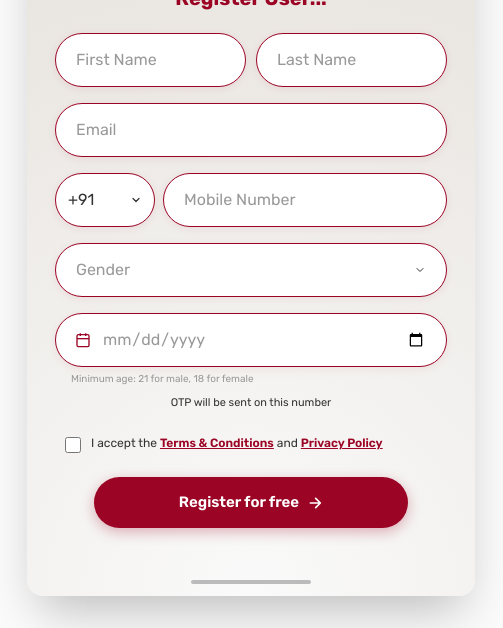
it: RegisterUser – Step 1 form › shows mobile validation error for fewer than 10 digits
(page scrolled)
Type "Rahul" into the field with placeholder "First Name" at (150,60), box [55,33,246,87]
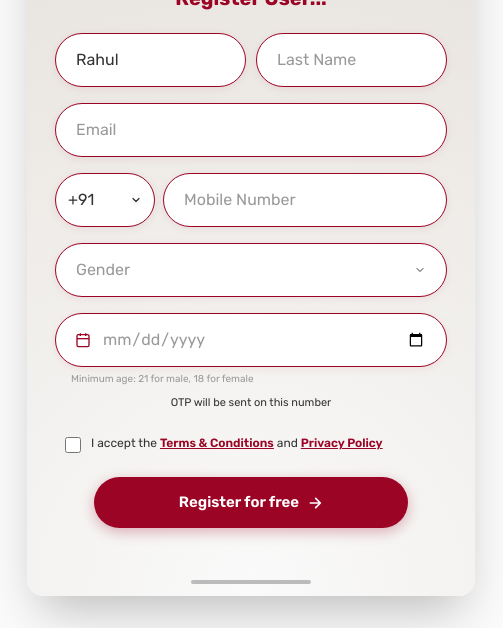
Type "Sharma" into the field with placeholder "Last Name" at (352,60), box [256,33,447,87]
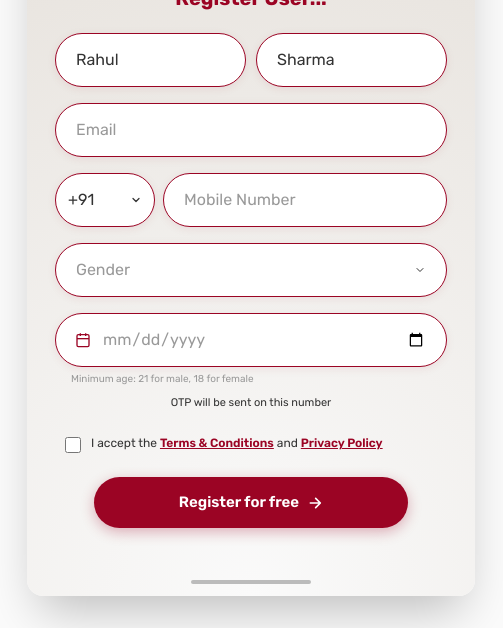
Type "12345" into the field with placeholder "Mobile Number" at (305,200), box [163,173,447,227]
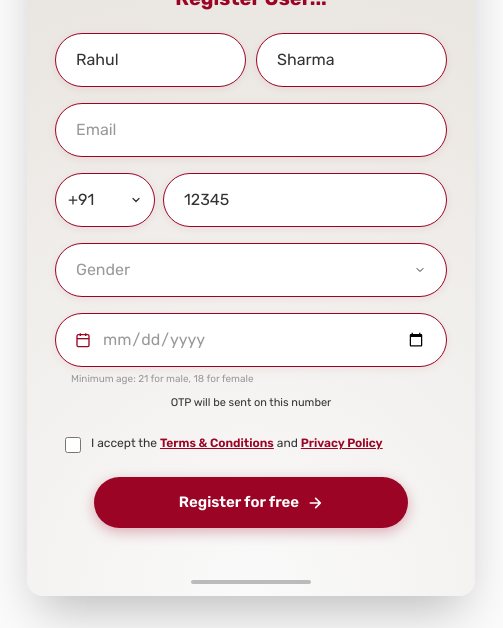
Click the button "Register for free" at (251,503), box [94,477,408,528]
(page scrolled)
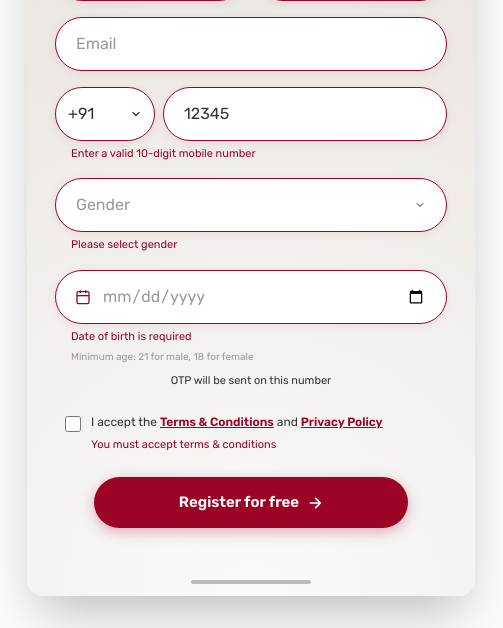
Expected: the text "Enter a valid 10-digit mobile number" is shown, [71,147,256,160]
